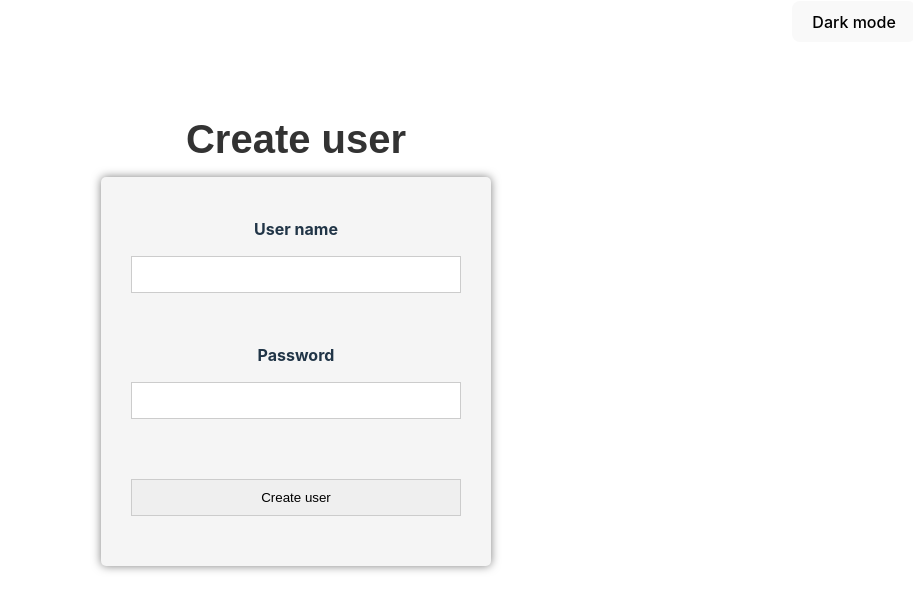
Test: App › should render success message after successful submit
This screenshot has width=913, height=604.
Type "John" into the field labelled "User name" at (296, 274), box [131,256,461,292]
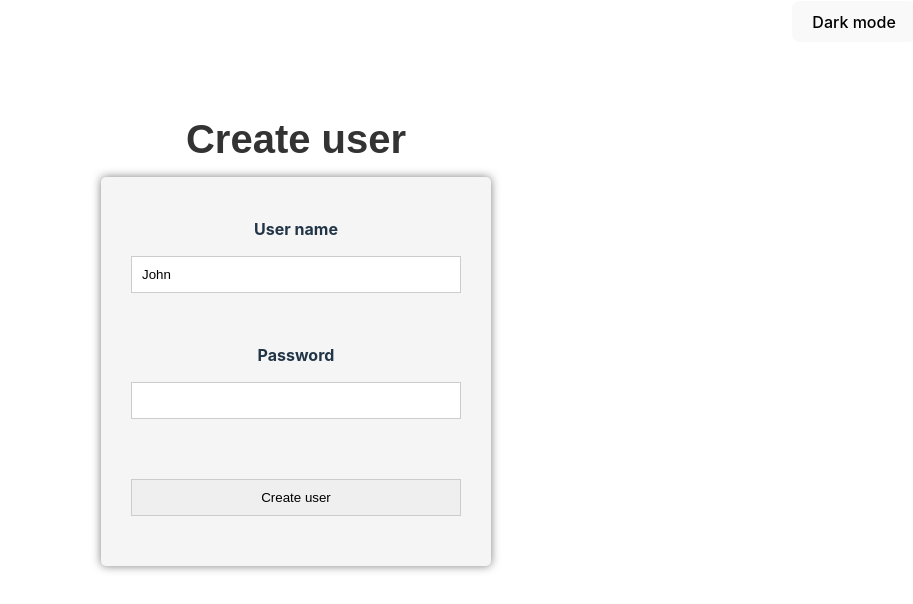
Type "Qwer3212@1@" into the password field labelled "Password" at (296, 400), box [131,382,461,418]
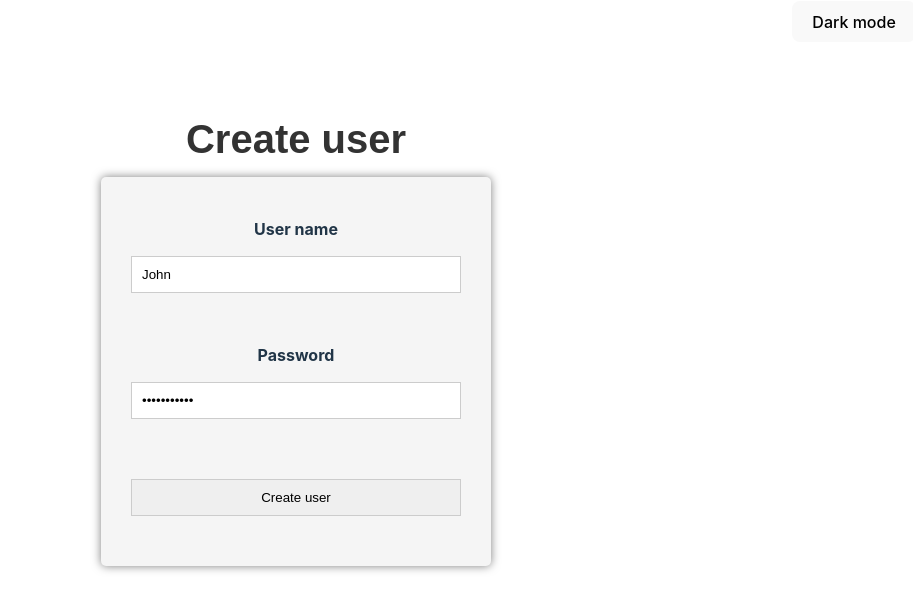
Click the button "Create user" at (296, 497), box [131,478,461,516]
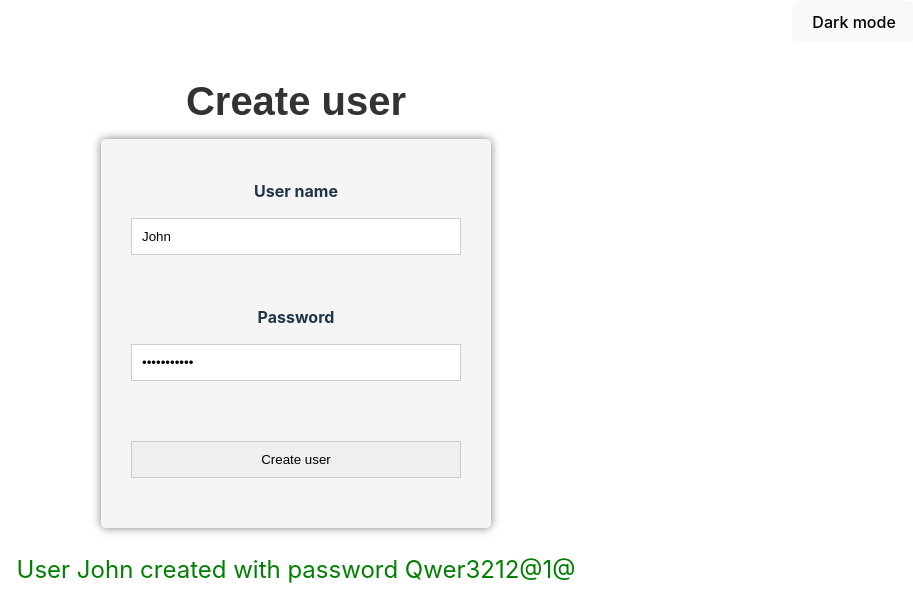
expect the text "User John created with password Qwer3212@1@" is shown: met, box [17,552,576,588]
